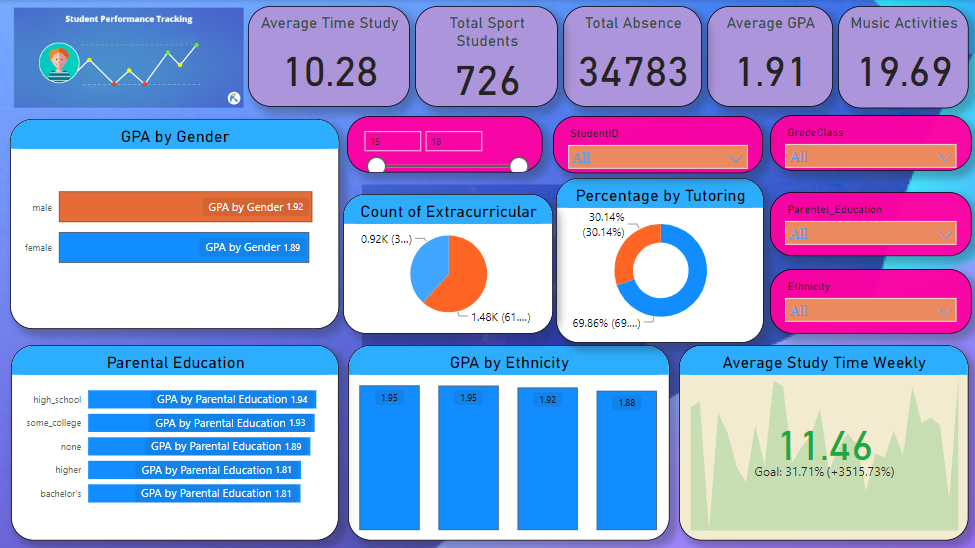

The dashboard page shown, as its layout file describes it:
{"tool":"powerbi","page":{"name":"Page 1","canvas":[1280,720],"ordinal":0},"visuals":[{"type":"card","title":"Average GPA","fields":{"Values":["Student_performance_data _.Average GPA"]},"box":[927.8,7.9,165.1,132.1],"z":0},{"type":"card","title":"Average Time Study","fields":{"Values":["Student_performance_data _.Average Study Time Weekly"]},"box":[327.1,7.9,212.3,132.1],"z":1000},{"type":"card","title":"Total Absence","fields":{"Values":["Student_performance_data _.Total Absences"]},"box":[739.1,7.9,182.4,132.1],"z":2000},{"type":"barChart","title":"GPA by Gender","fields":{"Category":["Student_performance_data _.Gender"],"Y":["Student_performance_data _.GPA by Gender"]},"box":[15.7,155.7,430.9,275.2],"z":3000},{"type":"columnChart","title":"GPA by Ethnicity","fields":{"Category":["Student_performance_data _.Ethnicity"],"Y":["Student_performance_data _.GPA by Ethnicity"]},"box":[457.6,451.3,421.4,256.3],"z":4000},{"type":"barChart","title":"Parental Education ","fields":{"Category":["Student_performance_data _.Parentel_Education"],"Y":["Student_performance_data _.GPA by Parental Education"]},"box":[17.3,451.3,429.3,256.3],"z":5000},{"type":"donutChart","title":"Percentage by Tutoring","fields":{"Category":["Student_performance_data _.Tutoring"],"Y":["Student_performance_data _.Tutoring Percentage"]},"box":[730.5,233,272.3,216],"z":6000},{"type":"pieChart","title":"Count of Extracurricular ","fields":{"Category":["Student_performance_data _.Extracurricular"],"Y":["CountNonNull(Student_performance_data _.Extracurricular)"]},"box":[451.6,254,274.9,183.3],"z":7000},{"type":"card","title":"Total Sport Students","fields":{"Values":["Student_performance_data _.Total Students in Sports"]},"box":[545.7,7.9,187.1,132.1],"z":8000},{"type":"card","title":"Music Activities","fields":{"Values":["Student_performance_data _.Music Activities Percentage"]},"box":[1099.2,7.9,171.4,133.7],"z":9000},{"type":"kpi","title":"Average Study Time Weekly","fields":{"Goal":["Student_performance_data _.Average GPA"],"Indicator":["Student_performance_data _.Average Study Time Weekly"],"TrendLine":["Student_performance_data _.Absences"]},"box":[891.6,451.3,379,256.3],"z":10000},{"type":"slicer","fields":{"Values":["Student_performance_data _.Ethnicity"]},"box":[1010.6,352.1,264.4,85.1],"z":11000},{"type":"slicer","fields":{"Values":["Student_performance_data _.Age"]},"box":[456.9,151.4,256,74.3],"z":12000},{"type":"slicer","fields":{"Values":["Student_performance_data _.GradeClass"]},"box":[1010.6,150.5,264.4,73.3],"z":13000},{"type":"slicer","fields":{"Values":["Student_performance_data _.Parentel_Education"]},"box":[1010.6,251.3,264.4,83.8],"z":14000},{"type":"slicer","fields":{"Values":["Student_performance_data _.StudentID"]},"box":[726.5,151.9,274.9,74.6],"z":15000},{"type":"image","box":[15.7,0,311.4,151],"z":16000}]}

Visuals, with their boxes in screenshot pixels (x1, y1, x2, y2), scaled from the page's 1280x720 canvas onto the 975x548 screenshot:
"Average GPA" card: (x1=707, y1=6, x2=832, y2=107)
"Average Time Study" card: (x1=249, y1=6, x2=411, y2=107)
"Total Absence" card: (x1=563, y1=6, x2=702, y2=107)
"GPA by Gender" barChart: (x1=12, y1=119, x2=340, y2=328)
"GPA by Ethnicity" columnChart: (x1=349, y1=343, x2=670, y2=539)
"Parental Education " barChart: (x1=13, y1=343, x2=340, y2=539)
"Percentage by Tutoring" donutChart: (x1=556, y1=177, x2=764, y2=342)
"Count of Extracurricular " pieChart: (x1=344, y1=193, x2=553, y2=333)
"Total Sport Students" card: (x1=416, y1=6, x2=558, y2=107)
"Music Activities" card: (x1=837, y1=6, x2=968, y2=108)
"Average Study Time Weekly" kpi: (x1=679, y1=343, x2=968, y2=539)
slicer - Student_performance_data _.Ethnicity: (x1=770, y1=268, x2=971, y2=333)
slicer - Student_performance_data _.Age: (x1=348, y1=115, x2=543, y2=172)
slicer - Student_performance_data _.GradeClass: (x1=770, y1=115, x2=971, y2=170)
slicer - Student_performance_data _.Parentel_Education: (x1=770, y1=191, x2=971, y2=255)
slicer - Student_performance_data _.StudentID: (x1=553, y1=116, x2=763, y2=172)
image: (x1=12, y1=0, x2=249, y2=115)
